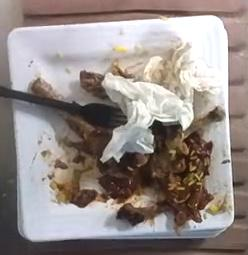beef: (118, 122, 214, 226)
